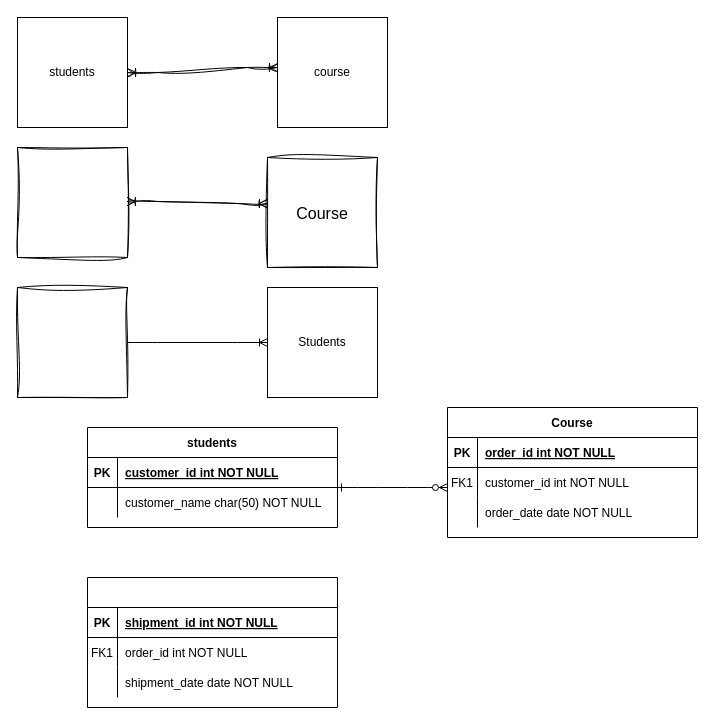
The diagram is 715 pixels wide and 725 high, and some of its shapes have lost their labels. The shapes that lost their labels are listed below. From the top down, each one's box as (x1, y1, x2, y2) in pixels, then its label:
(16, 146, 128, 258): Degree Program
(16, 286, 128, 398): Advisor
(86, 576, 338, 708): Shipments
